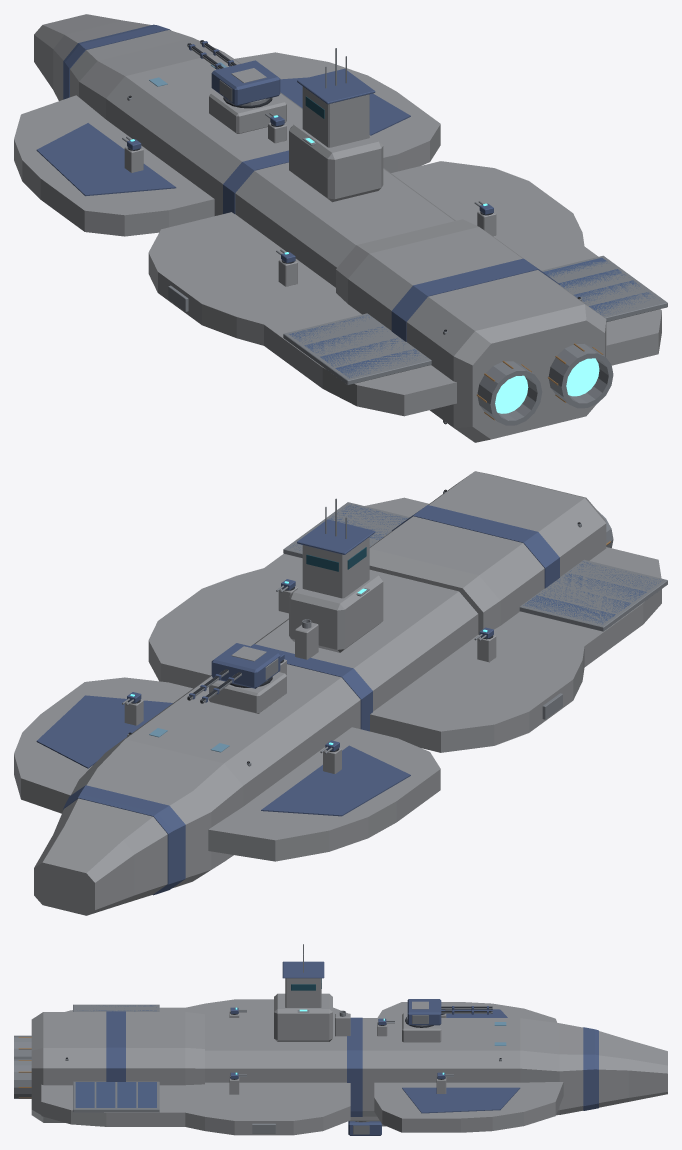
The model's file is earth_air_defense_cruiser.glb.
3 views of the same model, one above another, from view 1: azimuth 30°, elevation 25°; view 2: azimuth 150°, elevation 25°; view 3: azimuth 270°, elevation 25° (orthographic). The views are drawn at different scales.
Parts seen in each view (by area): view 1: FleetHull, mesh_turret_gun_1; view 2: FleetHull, mesh_turret_gun_1; view 3: FleetHull, mesh_turret_gun_1, mesh_turret_gun_2, mesh_recoil_gun_1.
Boxes of the visible parts, box(x1,y1,x2,y2) form: FleetHull: box(14, 14, 667, 442); mesh_turret_gun_1: box(211, 60, 280, 106); FleetHull: box(14, 471, 667, 915); mesh_turret_gun_1: box(211, 643, 280, 688); FleetHull: box(14, 944, 667, 1135); mesh_turret_gun_1: box(406, 999, 441, 1026); mesh_turret_gun_2: box(348, 1121, 381, 1135); mesh_recoil_gun_1: box(441, 1006, 492, 1014).
Bounding box in the file's own units: 148 × 104 × 332.
